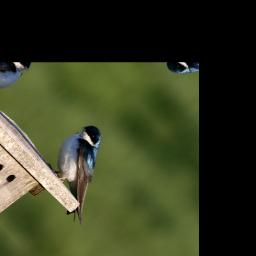Swallow: (22, 118, 142, 230)
